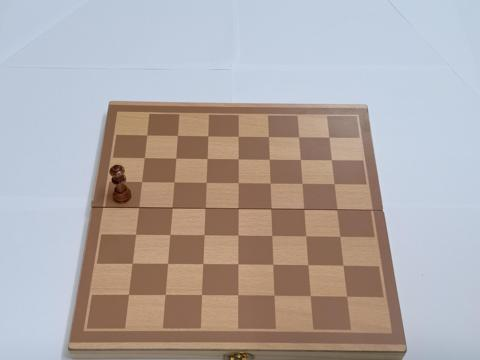xcorner: (142, 130, 152, 140), (124, 291, 134, 301), (169, 178, 179, 188), (165, 231, 175, 241), (203, 131, 213, 141), (296, 155, 306, 165), (330, 180, 340, 190), (336, 233, 346, 243), (339, 262, 349, 272), (140, 153, 149, 163), (134, 204, 144, 213), (128, 260, 137, 270), (171, 154, 181, 163), (167, 204, 177, 213), (163, 261, 173, 270), (203, 154, 212, 164), (201, 204, 210, 214), (197, 292, 207, 301), (234, 232, 243, 242), (234, 261, 243, 271), (234, 292, 243, 302), (264, 132, 274, 141), (265, 155, 275, 164), (266, 179, 275, 189), (267, 205, 276, 215), (270, 293, 280, 302), (298, 180, 308, 189), (304, 262, 314, 271), (307, 293, 316, 303), (343, 293, 352, 303), (137, 178, 146, 187), (131, 231, 140, 240), (173, 131, 182, 140), (161, 292, 170, 301), (202, 179, 211, 188), (200, 232, 209, 241), (199, 261, 208, 270), (234, 132, 243, 141), (234, 155, 243, 164), (234, 179, 243, 188), (234, 205, 243, 214), (268, 233, 277, 242), (269, 262, 278, 271), (295, 133, 304, 142), (300, 206, 309, 215), (302, 233, 311, 242), (325, 133, 334, 142), (328, 156, 337, 165), (333, 206, 342, 215)
